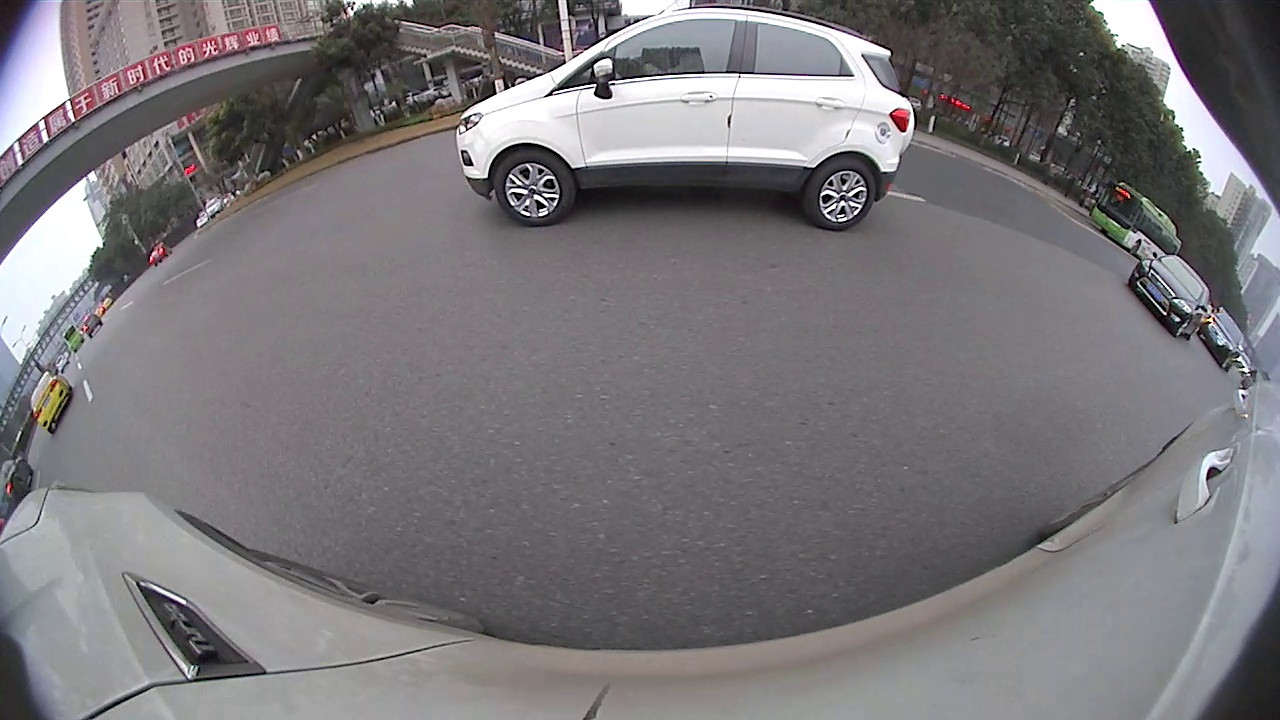bus: (1089, 179, 1186, 260)
car: (456, 5, 916, 232), (1129, 255, 1212, 342), (1196, 306, 1244, 374), (28, 371, 76, 437), (3, 456, 34, 531)
front: (498, 148, 571, 225)
rear: (808, 158, 873, 228)
